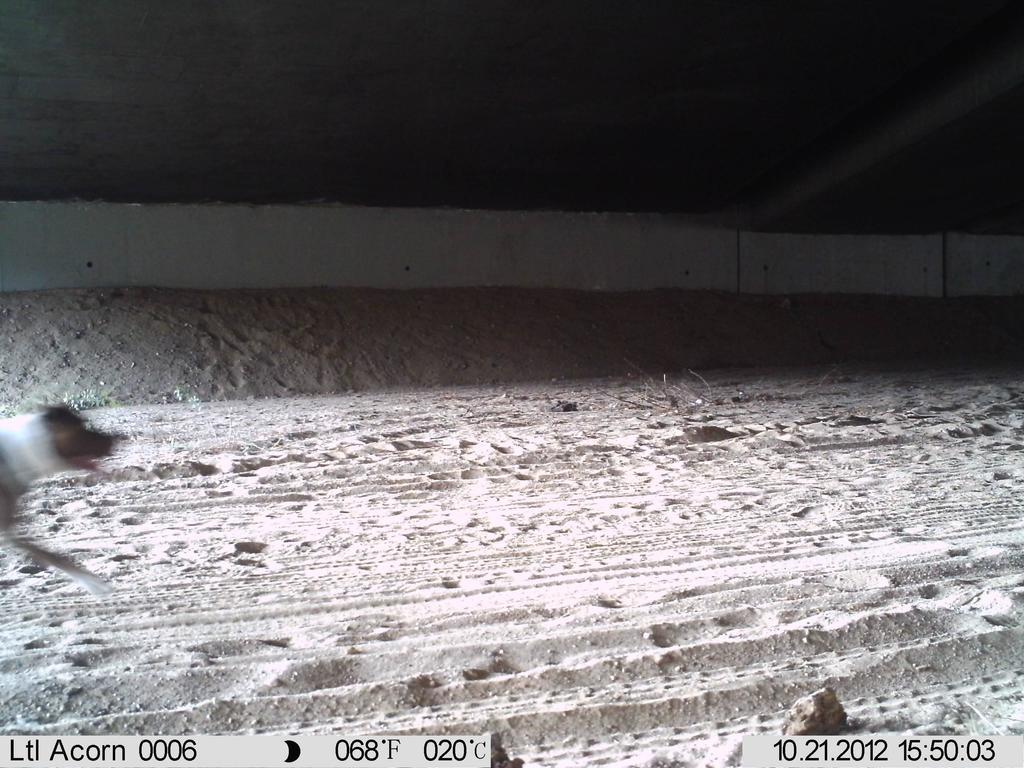dog: (2, 382, 161, 609)
